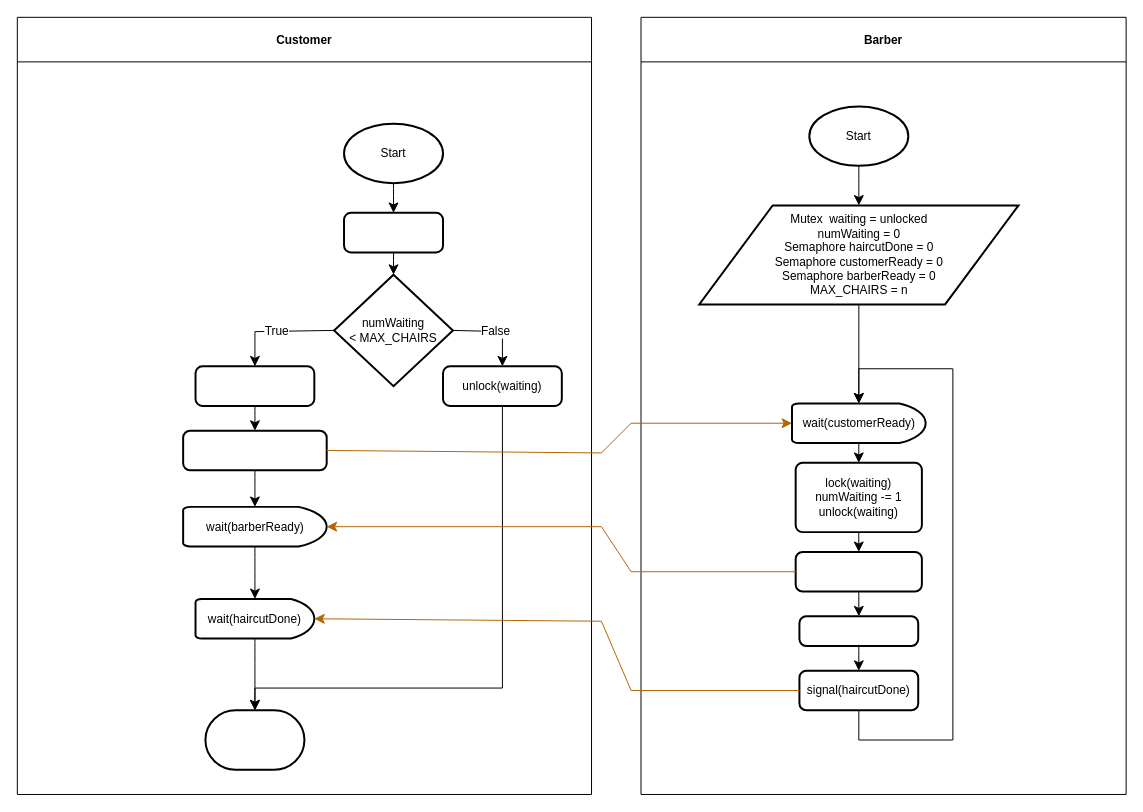
Image size: 1143x812. Some labels were removed from this diagram. Here are the shapes that lost their labels. From the top down, the centre of each, then its label:
At pixel 393 232: "lock(waiting)".
At pixel 254 385: "numWaiting += 1 unlock(waiting)".
At pixel 254 450: "signal(customerReady)".
At pixel 858 571: "signal(barberReady)".
At pixel 858 630: "Cut Hair".
At pixel 254 739: "Leave".
